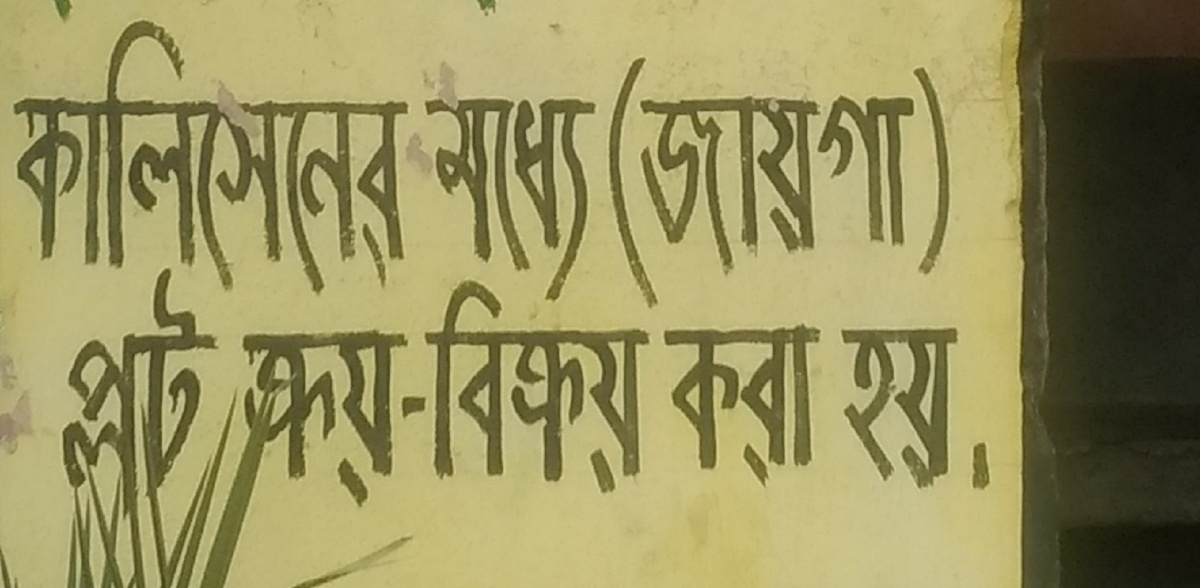text: (17, 12, 32, 311), (33, 12, 48, 311), (49, 12, 64, 311), (65, 12, 80, 311), (81, 12, 96, 311), (97, 12, 112, 311), (113, 12, 128, 311), (129, 12, 144, 311), (145, 12, 160, 311), (161, 12, 176, 311), (177, 12, 192, 311), (193, 12, 208, 311), (209, 12, 224, 311), (225, 12, 240, 311), (241, 12, 256, 311), (257, 12, 272, 311), (273, 12, 288, 311), (289, 12, 304, 311), (305, 12, 320, 311), (321, 12, 336, 311), (337, 12, 352, 311), (353, 12, 368, 311), (369, 12, 384, 311), (385, 12, 400, 311), (225, 266, 241, 521), (609, 55, 624, 311), (625, 55, 640, 311), (641, 55, 656, 311), (657, 55, 672, 311), (673, 55, 688, 311), (689, 55, 704, 311), (705, 55, 720, 311), (721, 55, 736, 311), (737, 55, 752, 311), (753, 55, 768, 311), (769, 55, 784, 311), (785, 55, 800, 311), (801, 55, 816, 311), (817, 55, 832, 311), (833, 55, 848, 311), (849, 55, 864, 311), (865, 55, 880, 311), (881, 55, 896, 311), (897, 55, 912, 311), (913, 55, 928, 311), (929, 55, 944, 311), (97, 266, 112, 521), (113, 266, 128, 521), (129, 266, 144, 521), (145, 266, 160, 521), (161, 266, 176, 521), (177, 266, 192, 521), (193, 266, 208, 521), (209, 266, 224, 521), (433, 276, 448, 500), (449, 276, 464, 500), (465, 276, 480, 500), (481, 276, 496, 500), (497, 276, 512, 500), (513, 276, 528, 500), (529, 276, 544, 500), (545, 276, 560, 500), (561, 276, 576, 500), (577, 276, 592, 500), (593, 276, 608, 500), (609, 276, 624, 500), (625, 276, 640, 500), (641, 276, 656, 500), (433, 93, 448, 306), (449, 93, 464, 306), (465, 93, 480, 306), (481, 93, 496, 306), (497, 93, 512, 306), (513, 93, 528, 306), (529, 93, 544, 306), (545, 93, 560, 306), (561, 93, 576, 306), (577, 93, 592, 306), (84, 266, 96, 521), (401, 12, 411, 311), (945, 55, 956, 311), (257, 329, 272, 511), (273, 329, 288, 511), (289, 329, 304, 511), (305, 329, 320, 511), (321, 329, 336, 511), (337, 329, 352, 511), (353, 329, 368, 511), (369, 329, 384, 511), (385, 329, 400, 511), (401, 329, 416, 511), (417, 329, 432, 511), (673, 321, 688, 496), (689, 321, 704, 496), (705, 321, 720, 496), (721, 321, 736, 496), (737, 321, 752, 496), (753, 321, 768, 496), (769, 321, 784, 496), (785, 321, 800, 496), (801, 321, 816, 496), (849, 324, 864, 497), (865, 324, 880, 497), (881, 324, 896, 497), (897, 324, 912, 497), (913, 324, 928, 497), (929, 324, 944, 497), (945, 324, 960, 497), (961, 324, 976, 497), (977, 324, 992, 497), (242, 329, 256, 511), (421, 276, 432, 500), (993, 324, 1007, 497), (661, 321, 672, 496), (423, 93, 432, 306), (837, 324, 848, 497), (657, 276, 664, 500), (593, 93, 600, 306), (817, 321, 825, 496), (13, 12, 16, 311), (433, 329, 437, 511), (49, 1, 64, 30), (65, 1, 80, 30), (465, 1, 480, 21), (481, 1, 496, 21), (607, 55, 608, 311), (81, 1, 89, 30), (42, 1, 48, 30), (497, 1, 504, 21)
